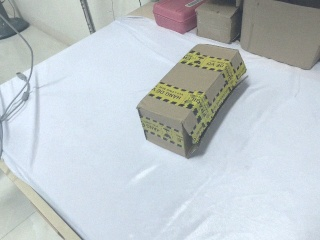box: (138, 44, 247, 158), (241, 1, 320, 69), (196, 1, 243, 43)
